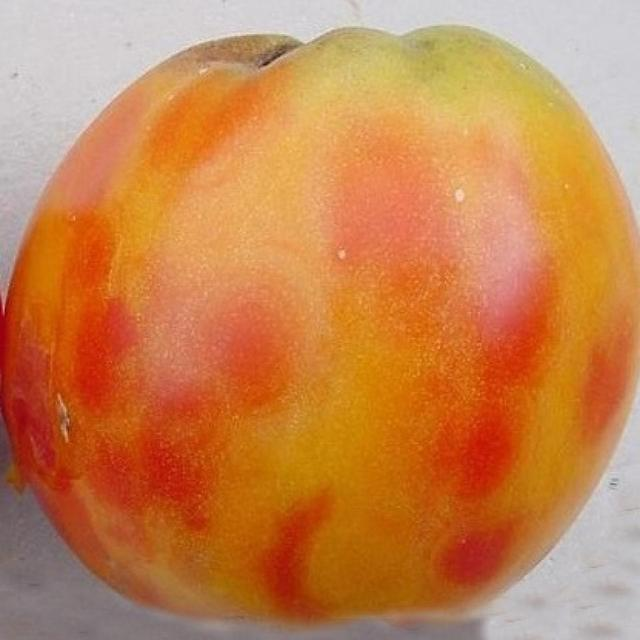Spotted wilt Virus Fruit: (218, 103, 635, 226)
